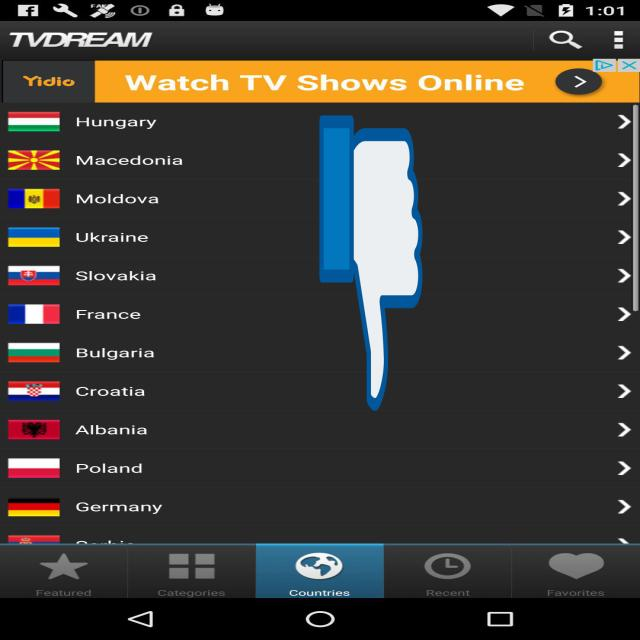obstruction: (320, 109, 422, 417)
